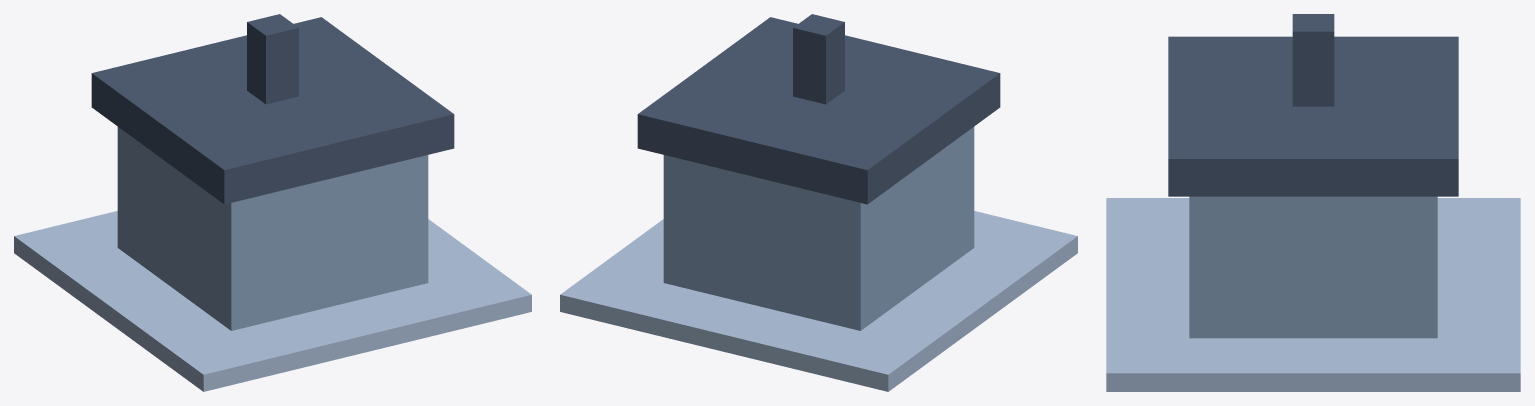
The model's file is zone-office.glb.
3 renders of one model, left to right at view 1: azimuth 30°, elevation 25°; view 2: azimuth 150°, elevation 25°; view 3: azimuth 270°, elevation 25°, orthographic. The views are drawn at different scales.
Parts seen in each view (by area): view 1: body, roof, ground, spire; view 2: body, roof, ground, spire; view 3: ground, roof, body, spire.
Part boxes in pixels (x1,y1,x2,y2): body: [117, 127, 428, 330]; roof: [91, 17, 454, 204]; ground: [14, 211, 531, 391]; spire: [247, 14, 298, 104]; body: [663, 127, 974, 330]; roof: [637, 17, 1000, 204]; ground: [560, 211, 1077, 391]; spire: [793, 14, 844, 104]; ground: [1106, 198, 1520, 391]; roof: [1168, 36, 1458, 196]; body: [1189, 196, 1437, 338]; spire: [1292, 14, 1334, 106].
Size of the model in its own units: 4 by 3 by 4.
